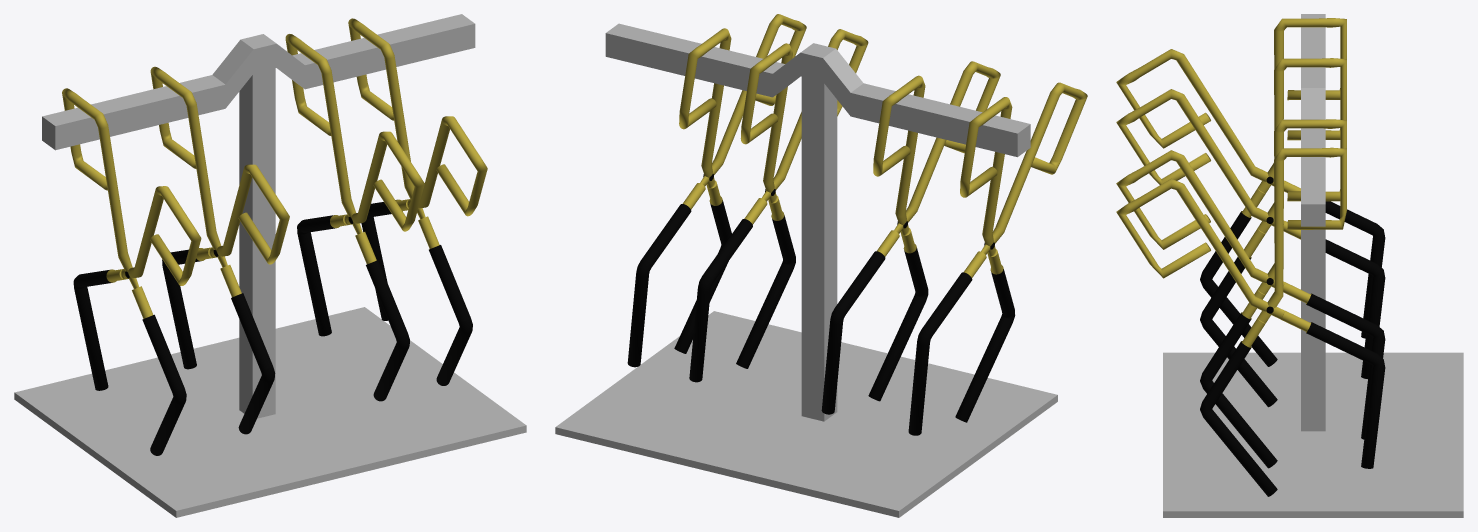
The model's file is Beaker tongs.fbx.
3 views of the same model, side by side, from view 1: azimuth 30°, elevation 25°; view 2: azimuth 150°, elevation 25°; view 3: azimuth 270°, elevation 25° (orthographic). The views are drawn at different scales.
Parts seen in each view (by area): view 1: pCube5, pCylinder6, pCylinder4, pCylinder5, pCylinder7; view 2: pCube5, pCylinder4, pCylinder5, pCylinder6, pCylinder7; view 3: pCube5, pCylinder7, pCylinder5, pCylinder6, pCylinder4.
Boxes of the visible parts, x1=… form: pCube5: x1=14, y1=14, x2=526, y2=517; pCylinder6: x1=285, y1=34, x2=424, y2=401; pCylinder4: x1=62, y1=88, x2=201, y2=455; pCylinder5: x1=150, y1=66, x2=289, y2=434; pCylinder7: x1=348, y1=18, x2=487, y2=385; pCube5: x1=555, y1=23, x2=1057, y2=517; pCylinder4: x1=908, y1=82, x2=1087, y2=435; pCylinder5: x1=821, y1=61, x2=1000, y2=414; pCylinder6: x1=689, y1=29, x2=868, y2=382; pCylinder7: x1=627, y1=14, x2=806, y2=367; pCube5: x1=1163, y1=14, x2=1463, y2=517; pCylinder7: x1=1116, y1=147, x2=1385, y2=496; pCylinder5: x1=1116, y1=58, x2=1385, y2=407; pCylinder6: x1=1116, y1=119, x2=1385, y2=468; pCylinder4: x1=1116, y1=18, x2=1385, y2=366.
Size of the model in its own units: 18.22 by 15.64 by 14.06.
